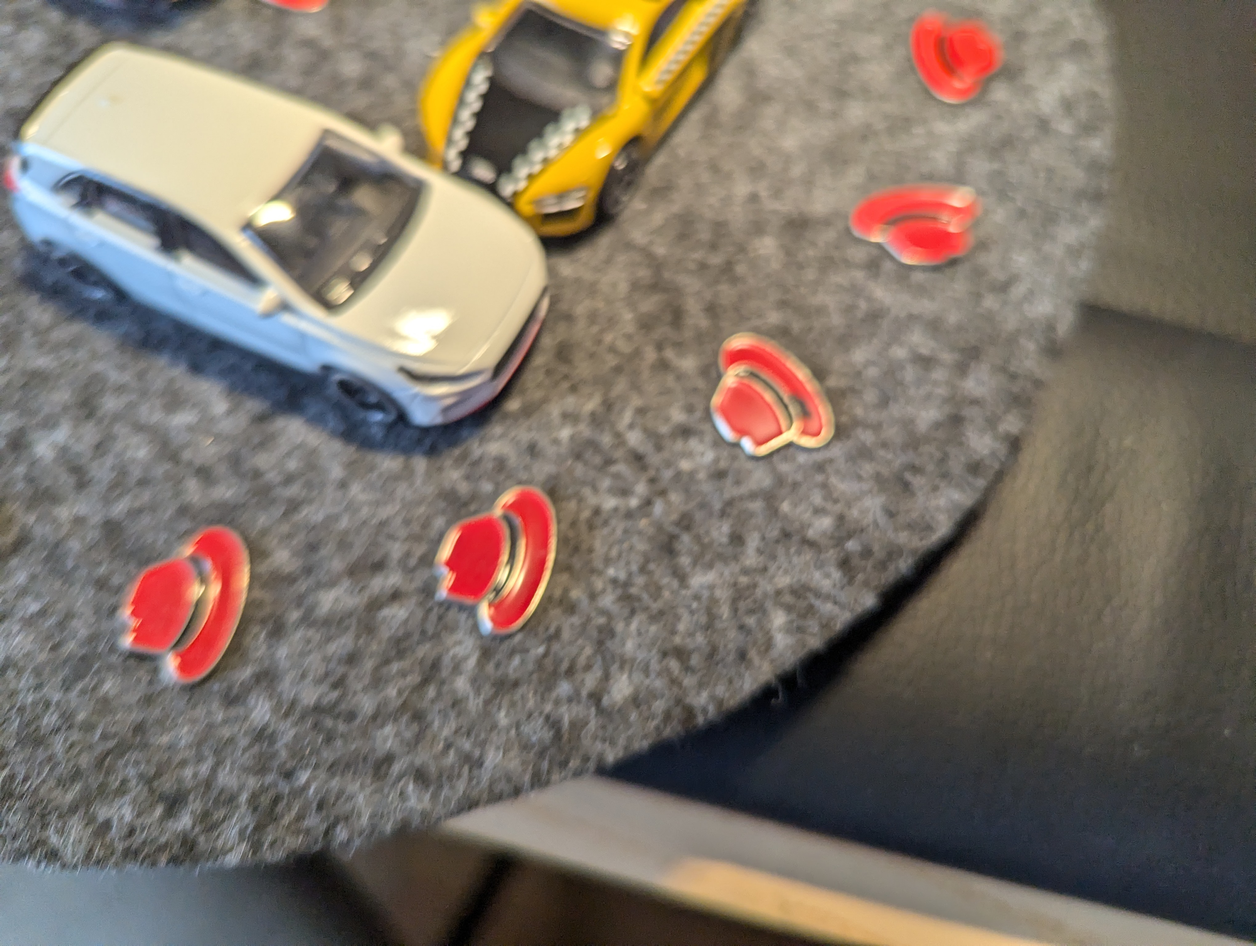Car: (0, 20, 554, 441), (401, 0, 780, 255)
Red-Hat: (422, 469, 586, 653), (102, 510, 266, 692), (684, 305, 851, 470), (811, 169, 996, 273), (891, 4, 1004, 118)
Scratch: (781, 383, 814, 425)
